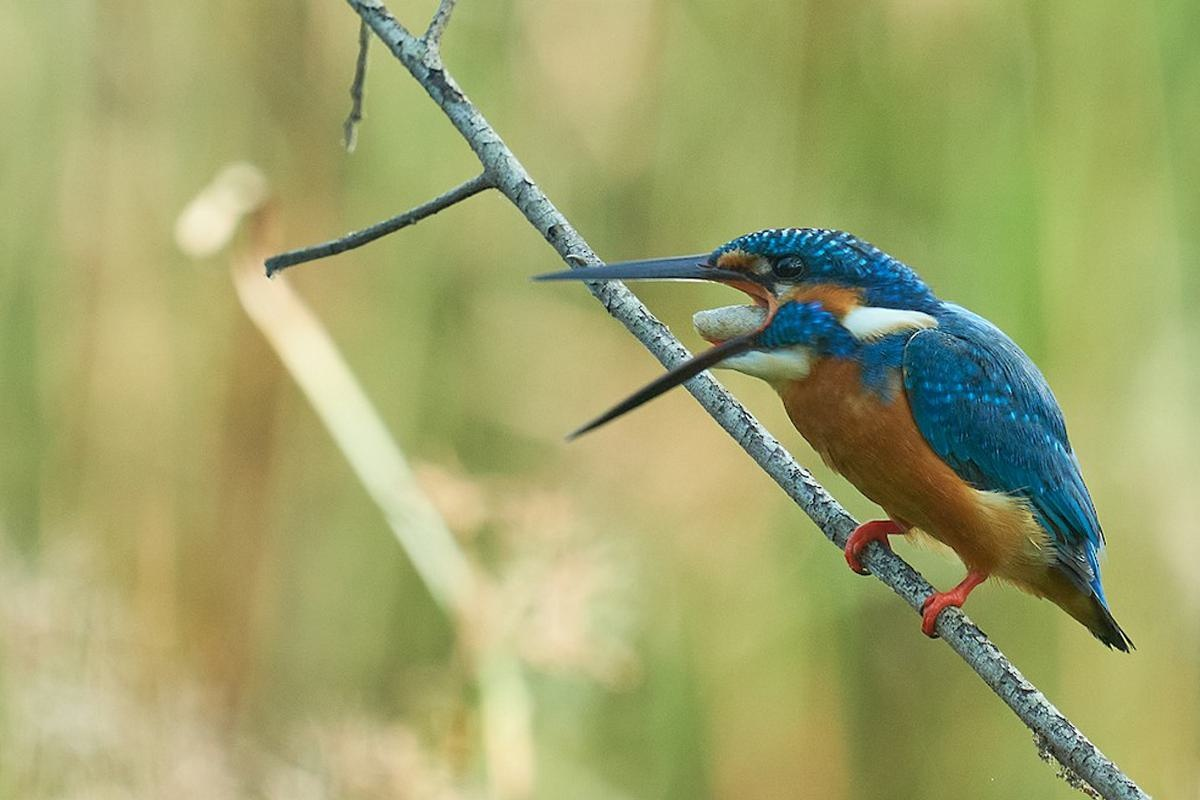kingfisher: (542, 191, 1173, 677)
